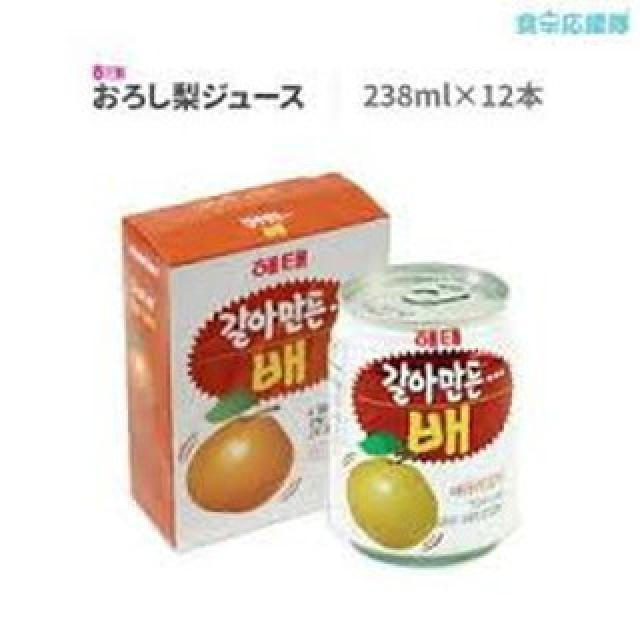can: (326, 261, 516, 572)
